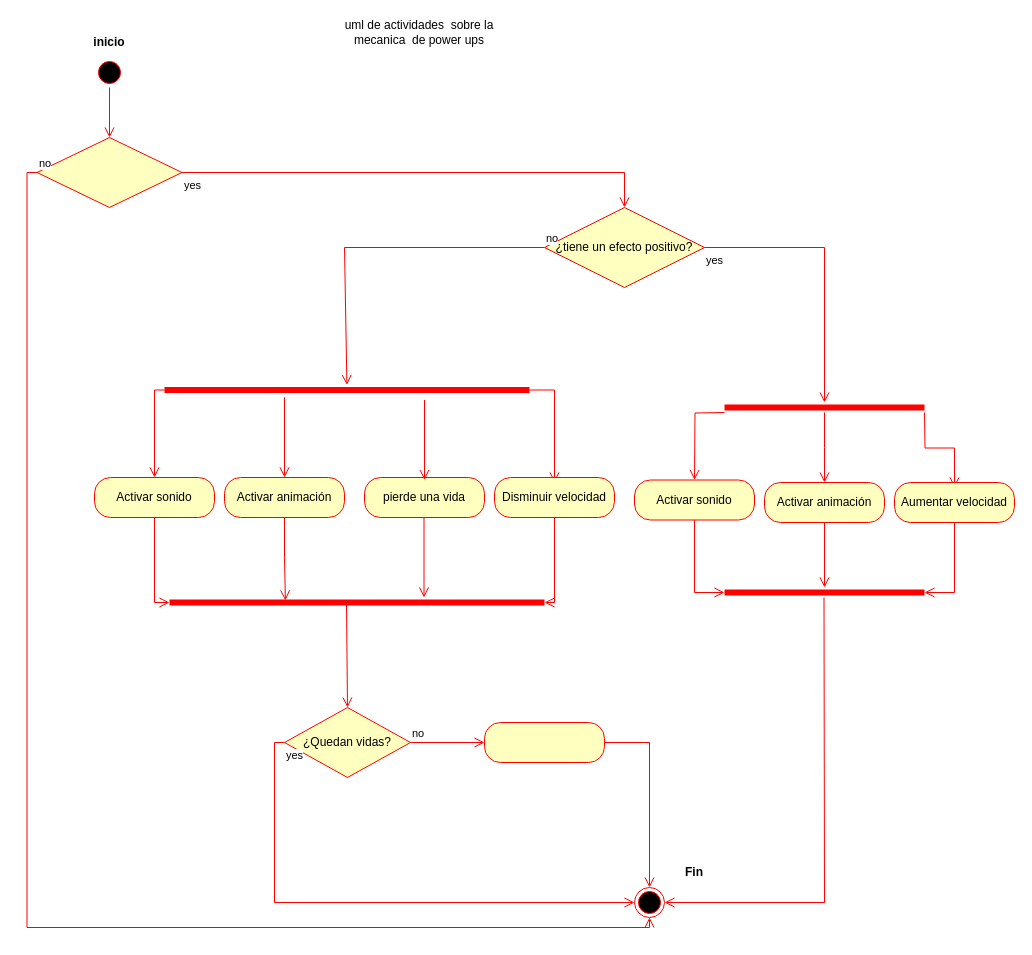
Some shapes in this 1032 by 955 pixel diagram are drawn without their labels. Each missing label, with the centre of its shape:
Activar pantalla de game over: (x=544, y=742)
¿ha ocurrido una ¿colisión?: (x=109, y=172)
